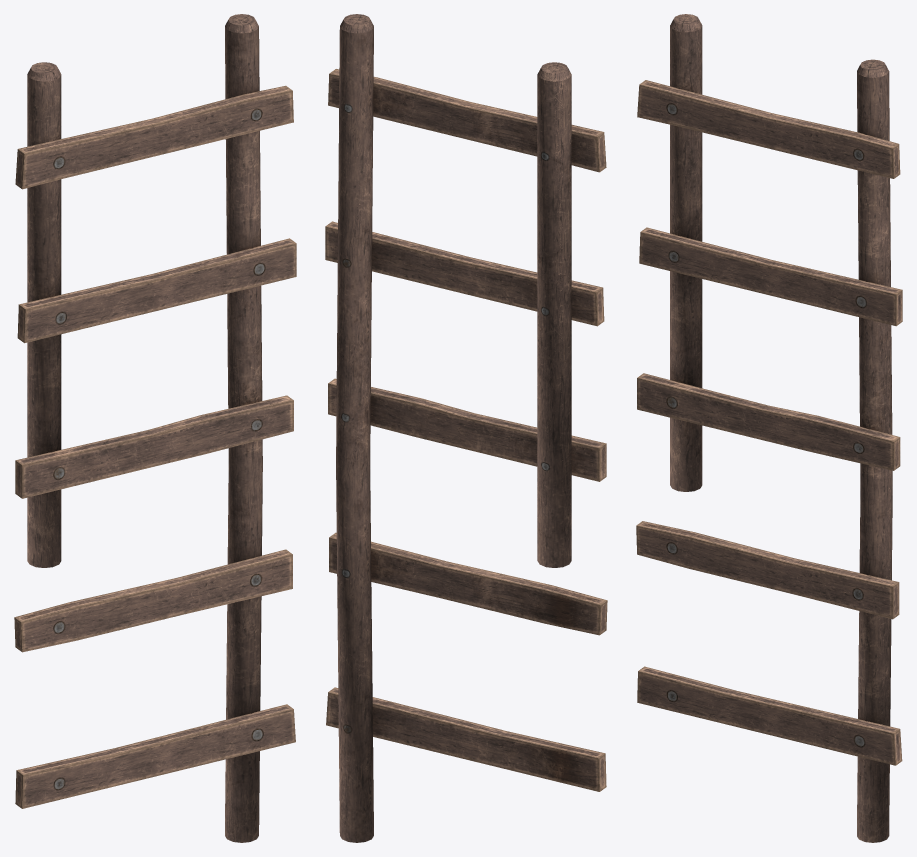
Rendered from TopLadder.fbx.
3 renders of one model, left to right at view 1: azimuth 30°, elevation 25°; view 2: azimuth 150°, elevation 25°; view 3: azimuth 330°, elevation 25°, orthographic. The views are drawn at different scales.
Visible parts, largest first — view 1: ladder; view 2: ladder; view 3: ladder.
Boxes of the visible parts, x1,y1,x2,y2 form: ladder: [14, 14, 296, 842]; ladder: [325, 14, 607, 842]; ladder: [636, 14, 902, 842].
Size of the model in its own units: 67.07 by 190 by 9.92.
1 material, 1 textured.
